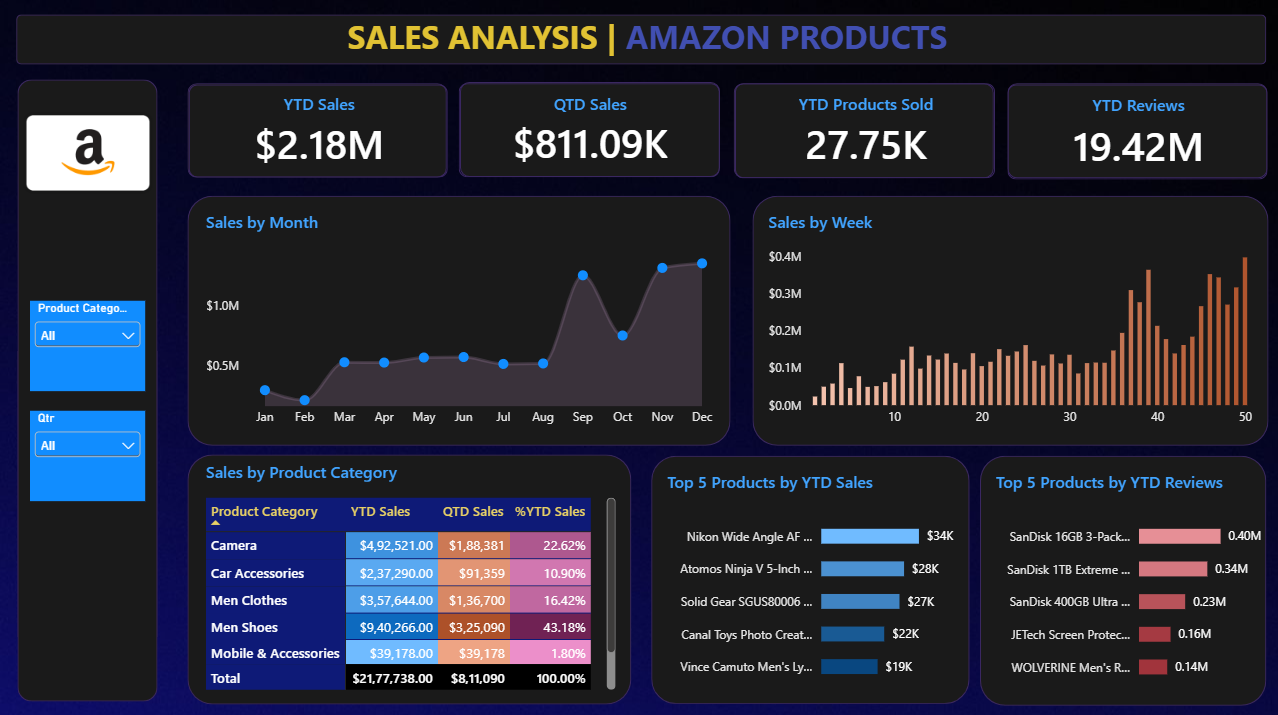

The dashboard page shown, as its layout file describes it:
{"tool":"powerbi","page":{"name":"Page 1","canvas":[1920,1080],"ordinal":0},"visuals":[{"type":"shape","box":[336.6,192.7,1250,50],"z":0},{"type":"textbox","box":[667.5,192.5,607.5,50],"z":1000},{"type":"shape","box":[337.5,257.5,140,622],"z":2000},{"type":"shape","box":[508,374,543,250],"z":3000},{"type":"group","id":"g1","title":"Group 1","box":[508,260,1080,100],"z":4000},{"type":"shape","box":[508,261.9,259.3,94.4],"z":4000,"group":"g1"},{"type":"areaChart","title":"Sales by Month","fields":{"Category":["Date Table.Month Name"],"Y":["Sum(Amazon_Data.Price(Dollar))"]},"box":[510,373.8,544,250],"z":5000},{"type":"shape","box":[1054.7,261.9,260,95],"z":6000,"group":"g1"},{"type":"shape","box":[507.5,632.5,443.8,250],"z":6000},{"type":"cardVisual","fields":{"Data":["Amazon_Data.YTD Sales"]},"box":[508.8,262.2,259.6,93.6],"z":7000,"group":"g1"},{"type":"shape","box":[1072,374,516,250],"z":7000},{"type":"shape","box":[781,260,260,95],"z":8000,"group":"g1"},{"type":"columnChart","title":"Sales by Week","fields":{"Category":["Date Table.Week"],"Y":["Sum(Amazon_Data.Price(Dollar))"]},"box":[1072,374,516,250],"z":8000},{"type":"shape","box":[1328.4,261.9,260,95],"z":9000,"group":"g1"},{"type":"pivotTable","title":"Sales by Product Category","fields":{"Rows":["Amazon_Data.Product Category"],"Values":["Amazon_Data.YTD Sales1","Amazon_Data.QTD Sales","Amazon_Data.YTD Sales"]},"box":[510,623.3,441.7,260],"z":9000},{"type":"cardVisual","fields":{"Data":["Amazon_Data.QTD Sales"]},"box":[779.6,261.2,261.4,94.3],"z":10000,"group":"g1"},{"type":"shape","box":[971.7,633.3,318.3,248.3],"z":10000},{"type":"cardVisual","fields":{"Data":["Amazon_Data.YTD Products Sold"]},"box":[1055.3,261.2,260,95.7],"z":11000,"group":"g1"},{"type":"shape","box":[1300,633.8,286.2,250],"z":11000},{"type":"cardVisual","fields":{"Data":["Amazon_Data.YTD Reviews"]},"box":[1328.2,262.6,260,95.7],"z":12000,"group":"g1"},{"type":"clusteredBarChart","title":"Top 5 Products by YTD Sales ","fields":{"Category":["Amazon_Data.Product Description"],"Y":["Amazon_Data.YTD Sales"]},"box":[971.7,633.3,318.3,248.3],"z":12000},{"type":"clusteredBarChart","title":"Top 5 Products by YTD Reviews ","fields":{"Category":["Amazon_Data.Product Description"],"Y":["Amazon_Data.YTD Reviews"]},"box":[1300,633.8,297.5,248.8],"z":13000},{"type":"slicer","fields":{"Values":["Amazon_Data.Product Category"]},"box":[350,478.3,115,90],"z":14000},{"type":"slicer","fields":{"Values":["Date Table.Qtr"]},"box":[350,588.3,115,90],"z":15000},{"type":"image","box":[330,262.5,155.4,136.9],"z":15001}]}

Visuals, with their boxes in screenshot pixels (x1, y1, x2, y2), scaled from the page's 1920x1080 canvas onto the 1278x715 screenshot:
shape: left=224, top=128, right=1056, bottom=161
textbox: left=444, top=127, right=849, bottom=161
shape: left=225, top=170, right=318, bottom=582
shape: left=338, top=248, right=700, bottom=413
"Group 1" group: left=338, top=172, right=1057, bottom=238
shape: left=338, top=173, right=511, bottom=236
"Sales by Month" areaChart: left=339, top=247, right=702, bottom=413
shape: left=702, top=173, right=875, bottom=236
shape: left=338, top=419, right=633, bottom=584
cardVisual - Amazon_Data.YTD Sales: left=339, top=174, right=511, bottom=236
shape: left=714, top=248, right=1057, bottom=413
shape: left=520, top=172, right=693, bottom=235
"Sales by Week" columnChart: left=714, top=248, right=1057, bottom=413
shape: left=884, top=173, right=1057, bottom=236
"Sales by Product Category" pivotTable: left=339, top=413, right=633, bottom=585
cardVisual - Amazon_Data.QTD Sales: left=519, top=173, right=693, bottom=235
shape: left=647, top=419, right=859, bottom=584
cardVisual - Amazon_Data.YTD Products Sold: left=702, top=173, right=875, bottom=236
shape: left=865, top=420, right=1056, bottom=585
cardVisual - Amazon_Data.YTD Reviews: left=884, top=174, right=1057, bottom=237
"Top 5 Products by YTD Sales " clusteredBarChart: left=647, top=419, right=859, bottom=584
"Top 5 Products by YTD Reviews " clusteredBarChart: left=865, top=420, right=1063, bottom=584
slicer - Amazon_Data.Product Category: left=233, top=317, right=310, bottom=376
slicer - Date Table.Qtr: left=233, top=389, right=310, bottom=449
image: left=220, top=174, right=323, bottom=264
